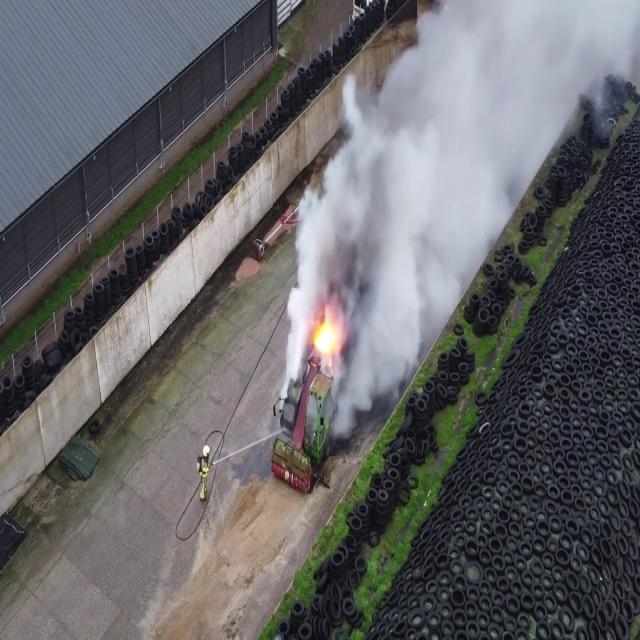Fire: (310, 305, 344, 368)
Smoke: (285, 0, 639, 404)
